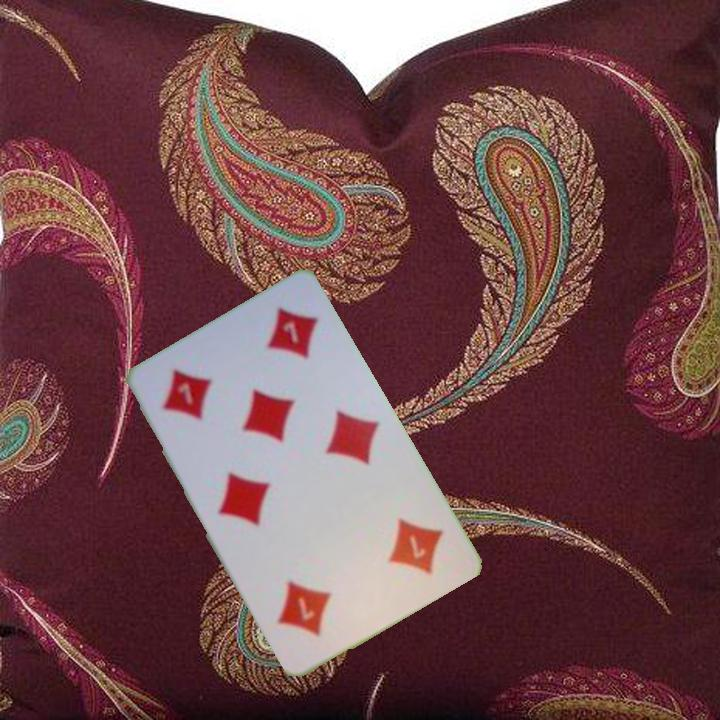d_7.png: (336, 490, 464, 613), (136, 334, 263, 457)
